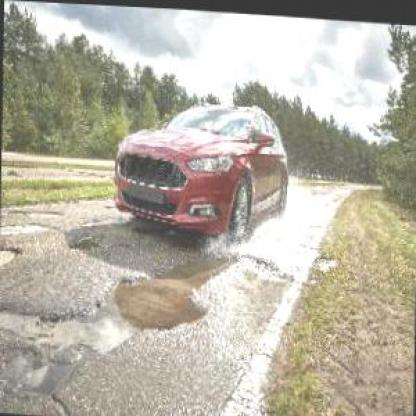pothole: (92, 270, 206, 333), (66, 230, 102, 248)
